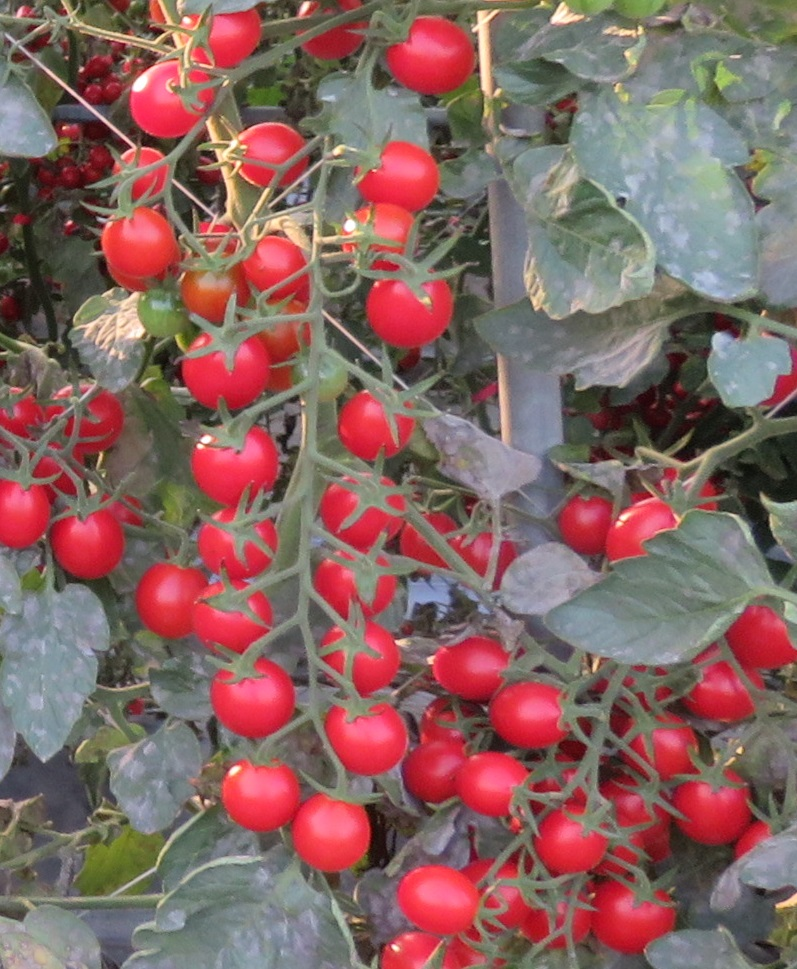red: (188, 427, 281, 505), (179, 332, 270, 410), (385, 15, 474, 94), (679, 645, 767, 724), (128, 60, 215, 139), (365, 270, 455, 346), (210, 659, 295, 738), (323, 698, 408, 777), (291, 793, 371, 876), (315, 543, 397, 622), (322, 470, 406, 547), (95, 205, 184, 277), (488, 677, 578, 747), (189, 580, 276, 651), (193, 505, 278, 577), (397, 865, 482, 935), (318, 623, 402, 693), (337, 387, 415, 462), (595, 880, 675, 953), (44, 384, 125, 456), (221, 757, 297, 833), (50, 502, 125, 579), (675, 769, 752, 843), (138, 562, 209, 642), (354, 142, 439, 208), (620, 712, 700, 781), (431, 633, 509, 700), (537, 803, 609, 875), (341, 204, 422, 268), (233, 122, 309, 190), (234, 235, 318, 295), (520, 885, 592, 954), (178, 9, 262, 68), (723, 601, 796, 668), (293, 1, 370, 62), (458, 752, 530, 817), (598, 777, 671, 841), (606, 499, 681, 560), (445, 527, 516, 588), (416, 696, 487, 753), (399, 510, 461, 565), (1, 480, 49, 549), (379, 930, 463, 969), (560, 495, 611, 559), (400, 745, 457, 802), (114, 148, 171, 199), (1, 386, 44, 449), (736, 820, 780, 861), (91, 144, 115, 169), (60, 163, 82, 190), (82, 84, 106, 105)
